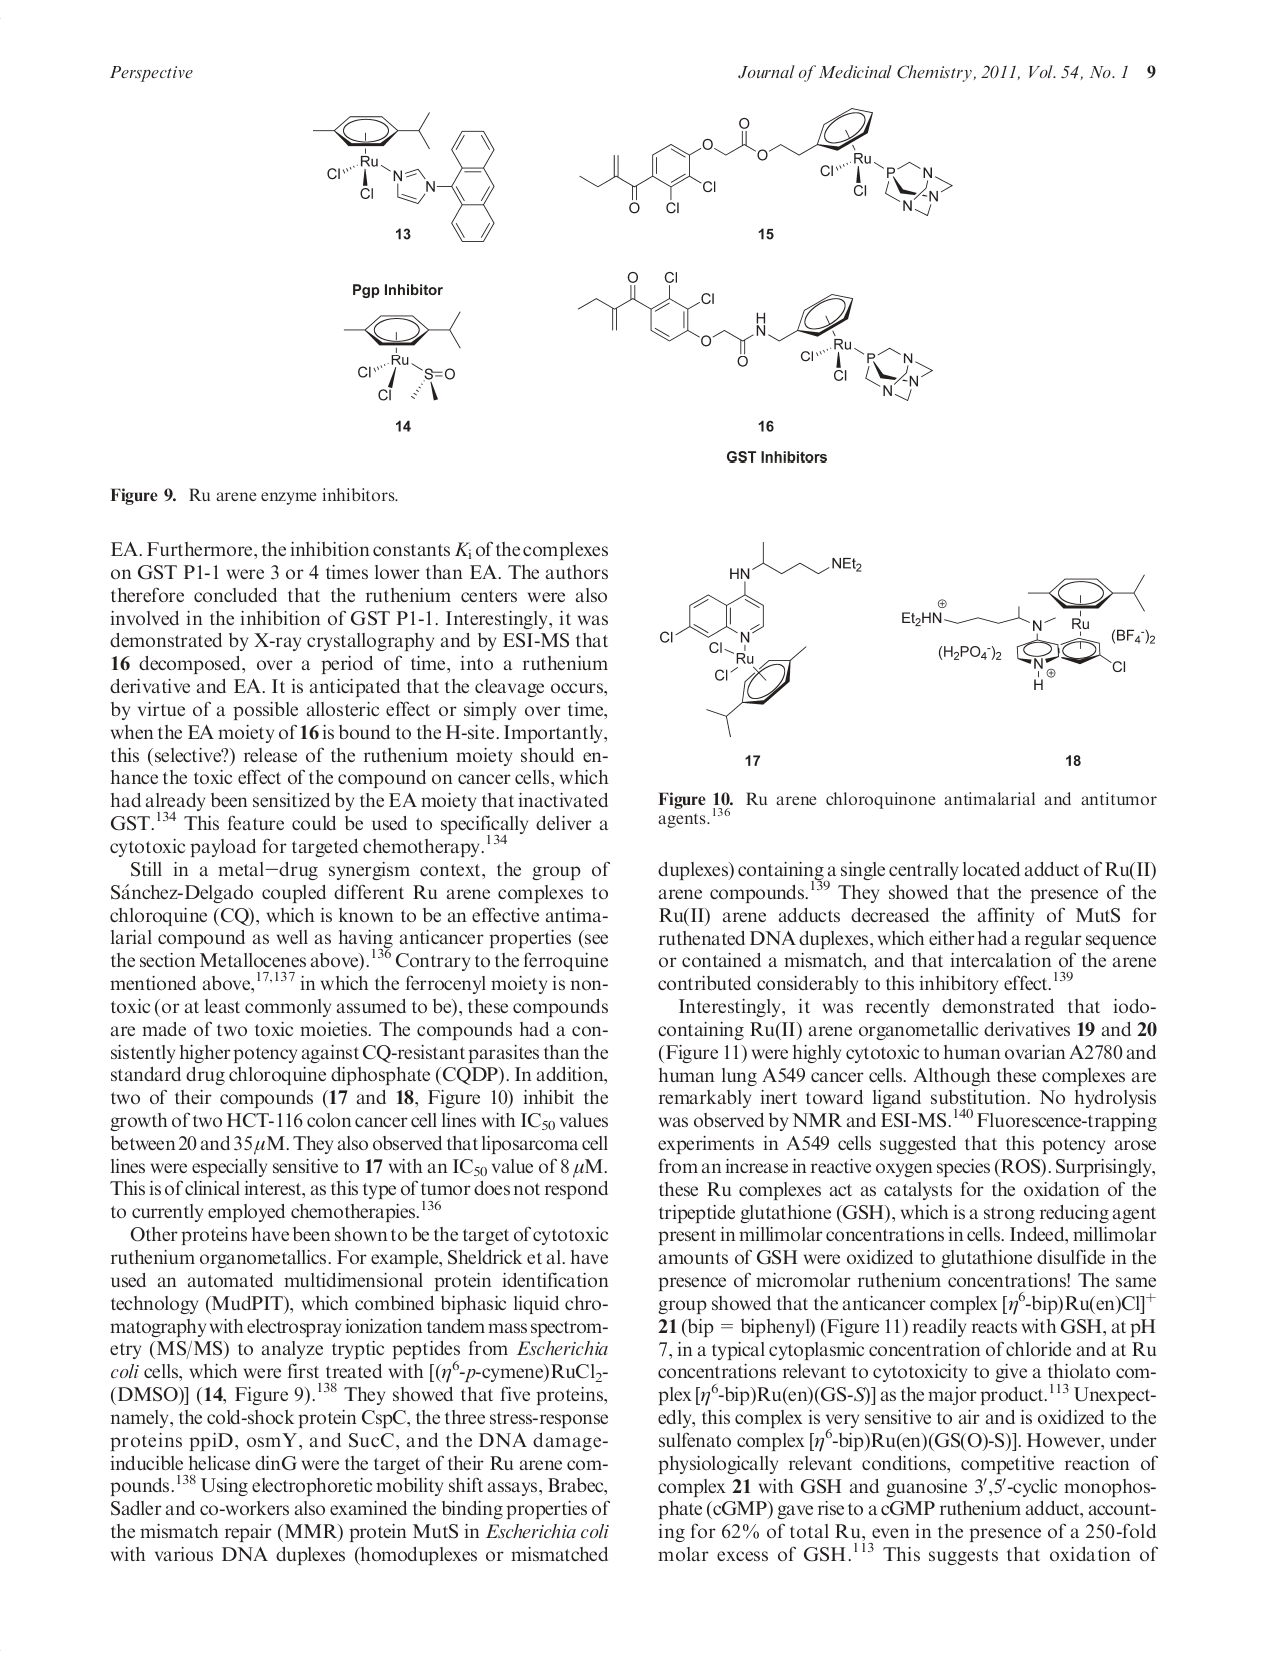exist_molecular: (576, 104, 956, 239), (576, 267, 939, 404), (657, 539, 867, 739), (896, 572, 1160, 696), (307, 109, 493, 251), (339, 305, 465, 403)
